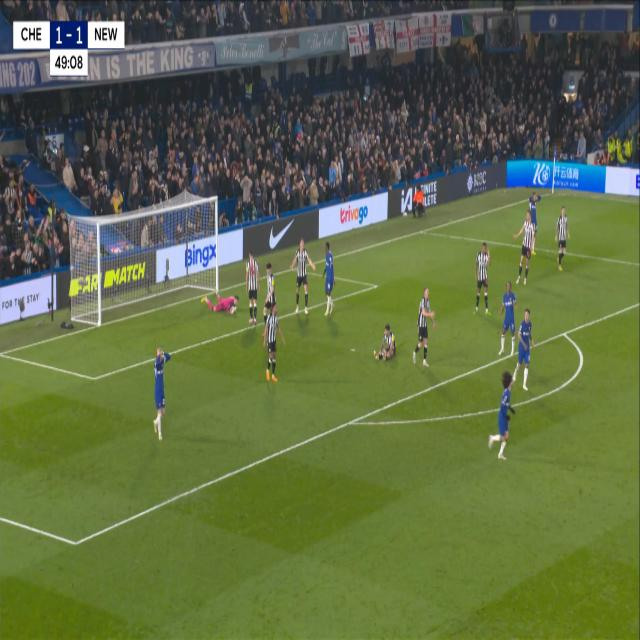Chelsea: (486, 367, 518, 463), (148, 340, 174, 445), (514, 307, 536, 393), (498, 280, 519, 366), (319, 237, 339, 320)
New castle: (409, 283, 438, 373), (288, 234, 317, 320), (260, 298, 287, 388), (512, 208, 536, 290), (471, 238, 494, 319), (245, 246, 261, 328), (552, 200, 570, 268), (372, 316, 396, 365)
New castle keeper: (199, 282, 240, 321)
